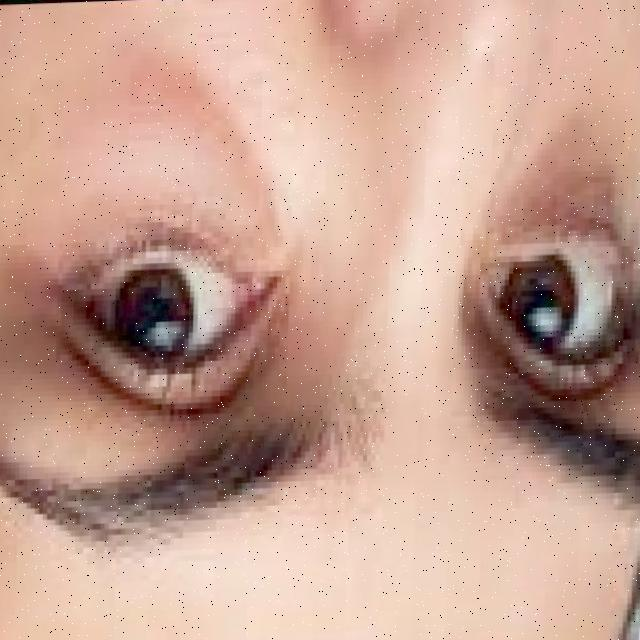puffy_eyes: (485, 145, 640, 254)
